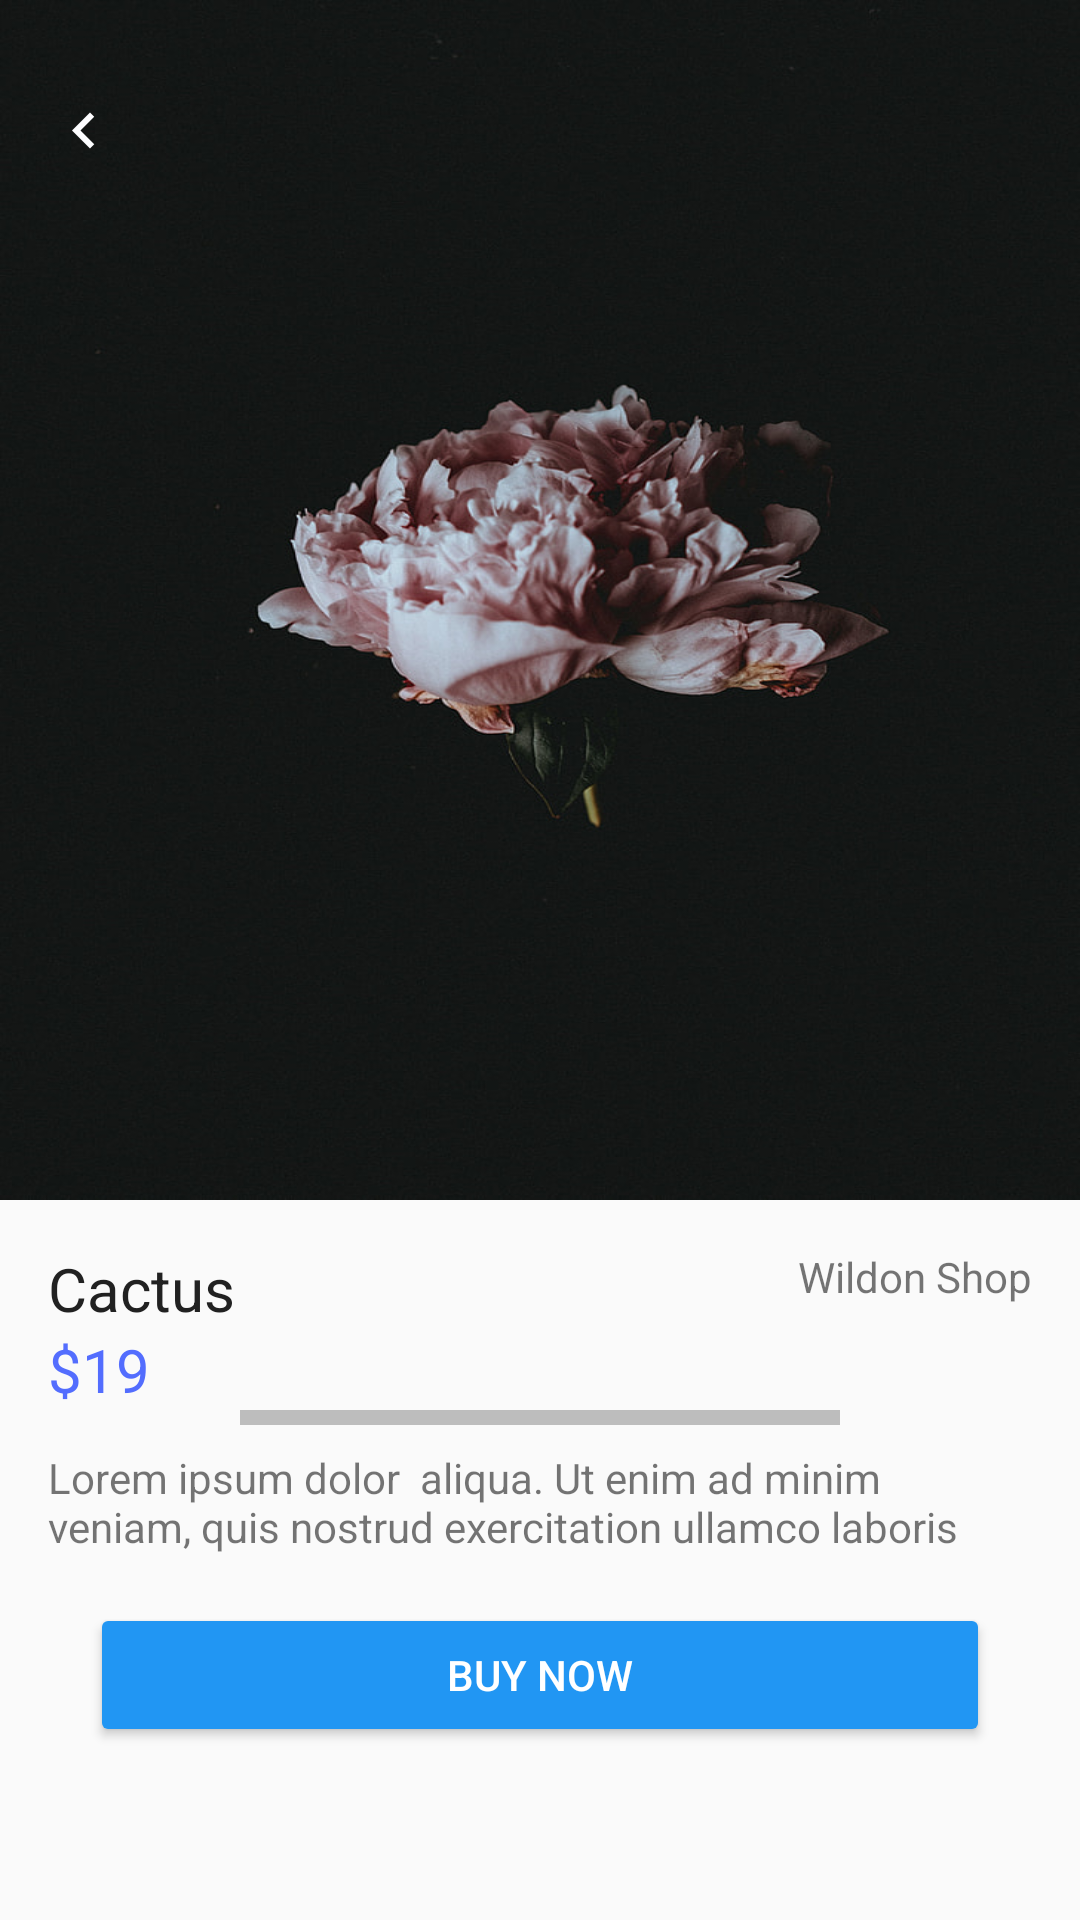

Icon click points for this 1080×1920 phone screenshot, format point (x, y):
keyboard arrow left: point (83, 130)
